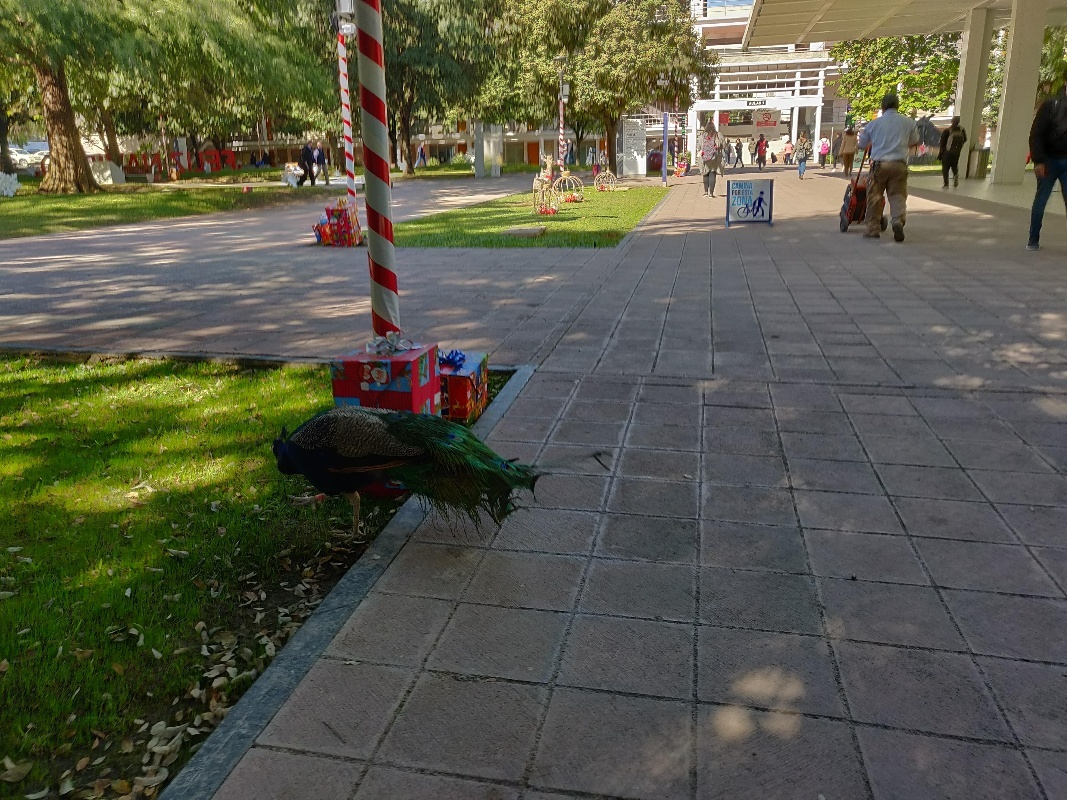pavoreal: (273, 410, 393, 509)
